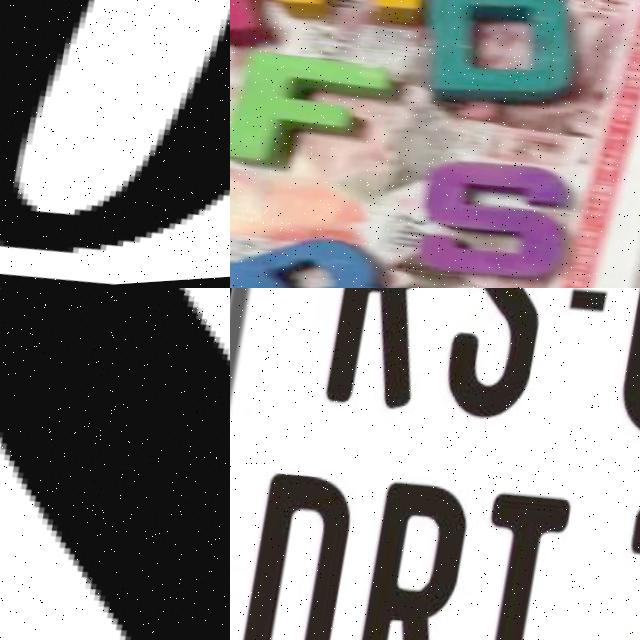0: (0, 0, 230, 288)
B: (230, 218, 443, 288)
D: (230, 468, 362, 640), (413, 0, 590, 120)
F: (230, 41, 399, 187)
R: (343, 476, 479, 640), (323, 288, 452, 425), (267, 0, 440, 38)
S: (0, 288, 230, 640), (409, 154, 580, 288), (441, 288, 567, 429)
T: (454, 486, 582, 640)
